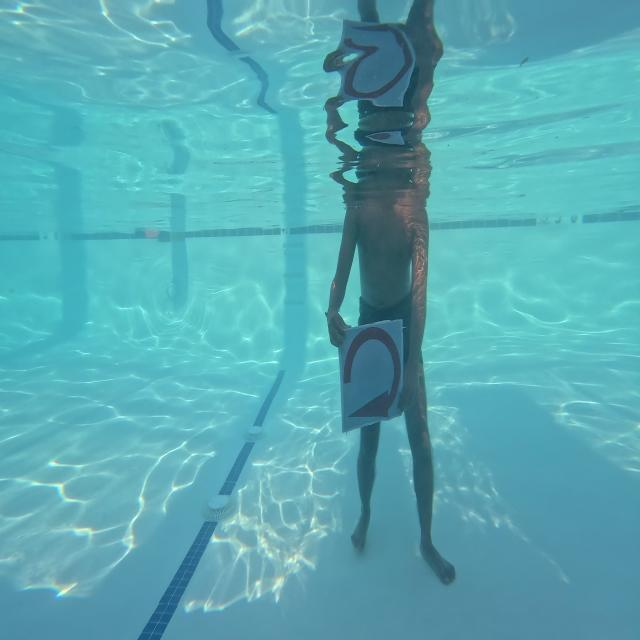red_side: (336, 323, 410, 431)
